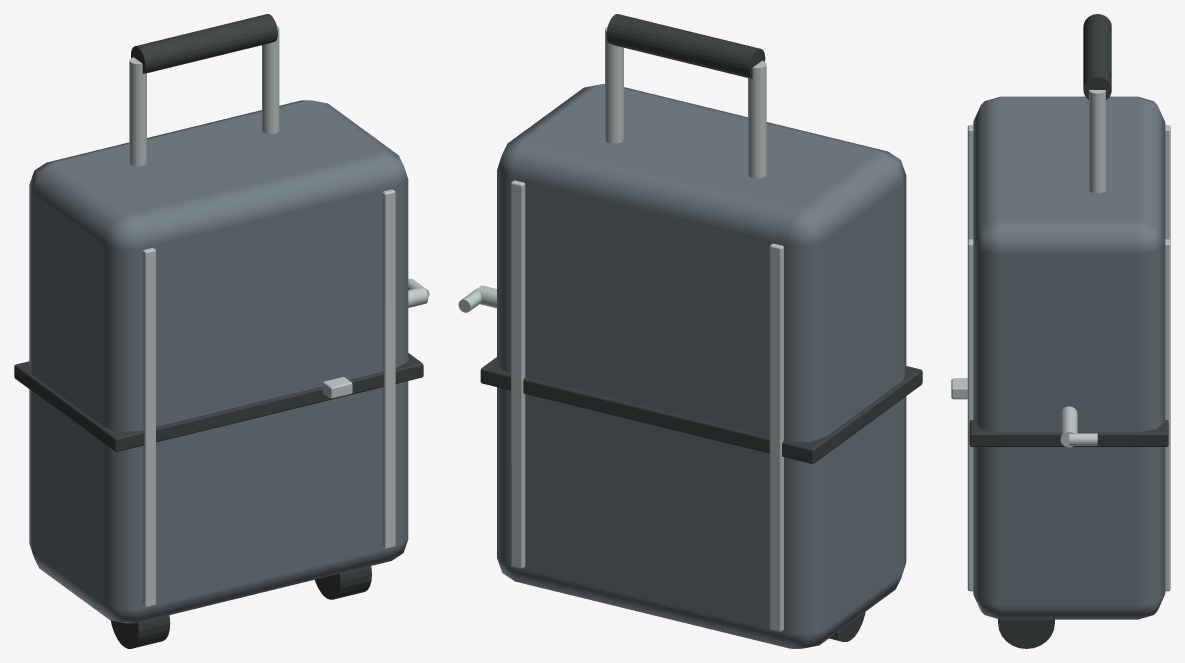
File: suitcase.glb
3 renders of one model, left to right at view 1: azimuth 30°, elevation 25°; view 2: azimuth 150°, elevation 25°; view 3: azimuth 270°, elevation 25°, orthographic. The views are drawn at different scales.
Parts seen in each view (by area): view 1: mountain-border-checkpoint-suitcase; view 2: mountain-border-checkpoint-suitcase; view 3: mountain-border-checkpoint-suitcase.
Part boxes in pixels (x1,y1,x2,y2): mountain-border-checkpoint-suitcase: (14, 14, 429, 648); mountain-border-checkpoint-suitcase: (458, 14, 922, 648); mountain-border-checkpoint-suitcase: (951, 14, 1170, 648).
Size of the model in its own units: 0.579 by 0.85 by 0.308.
